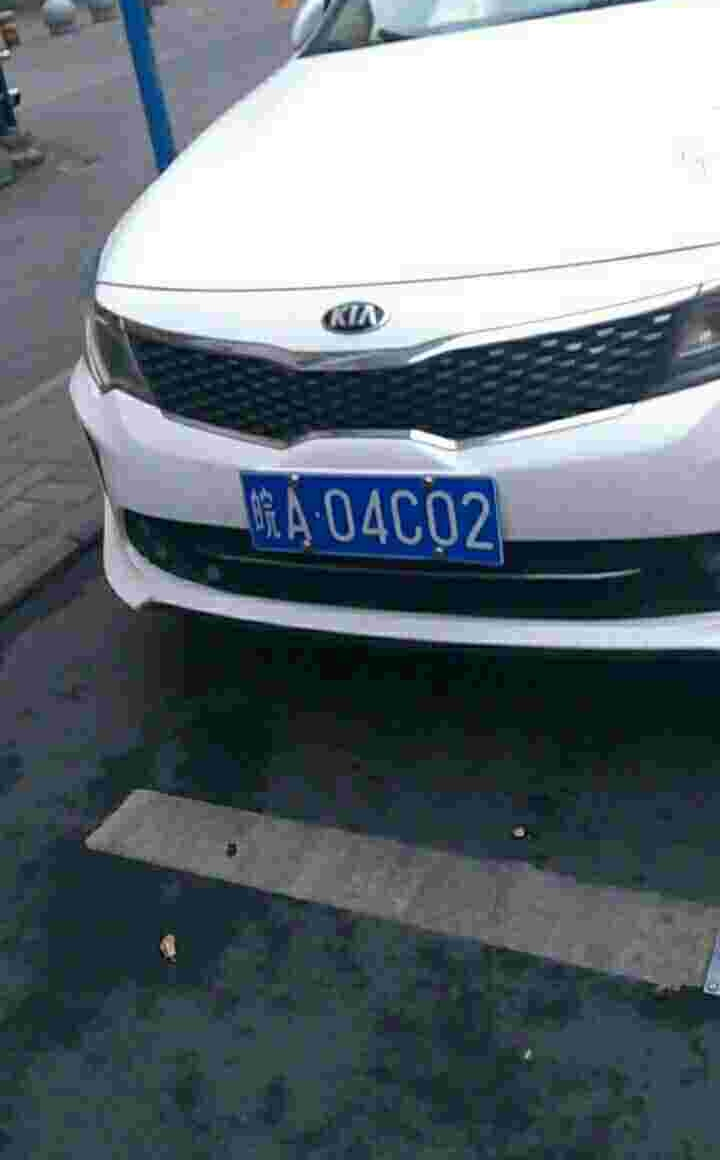license_plate: (233, 468, 510, 571)
